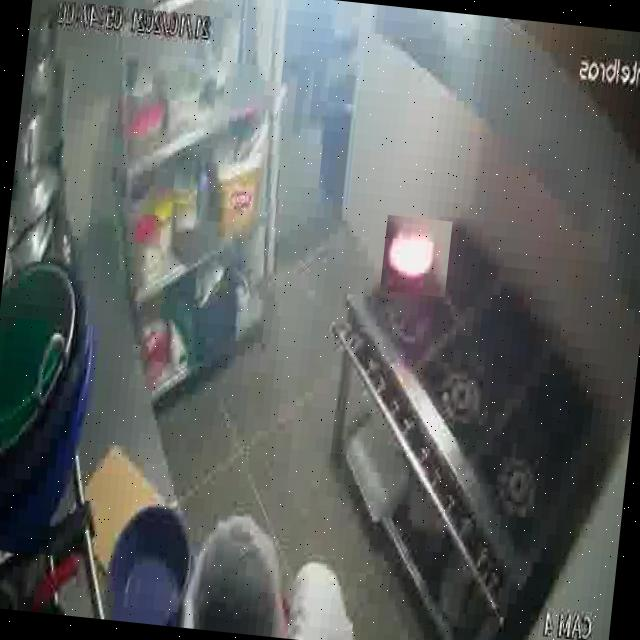fire: (380, 215, 452, 296)
